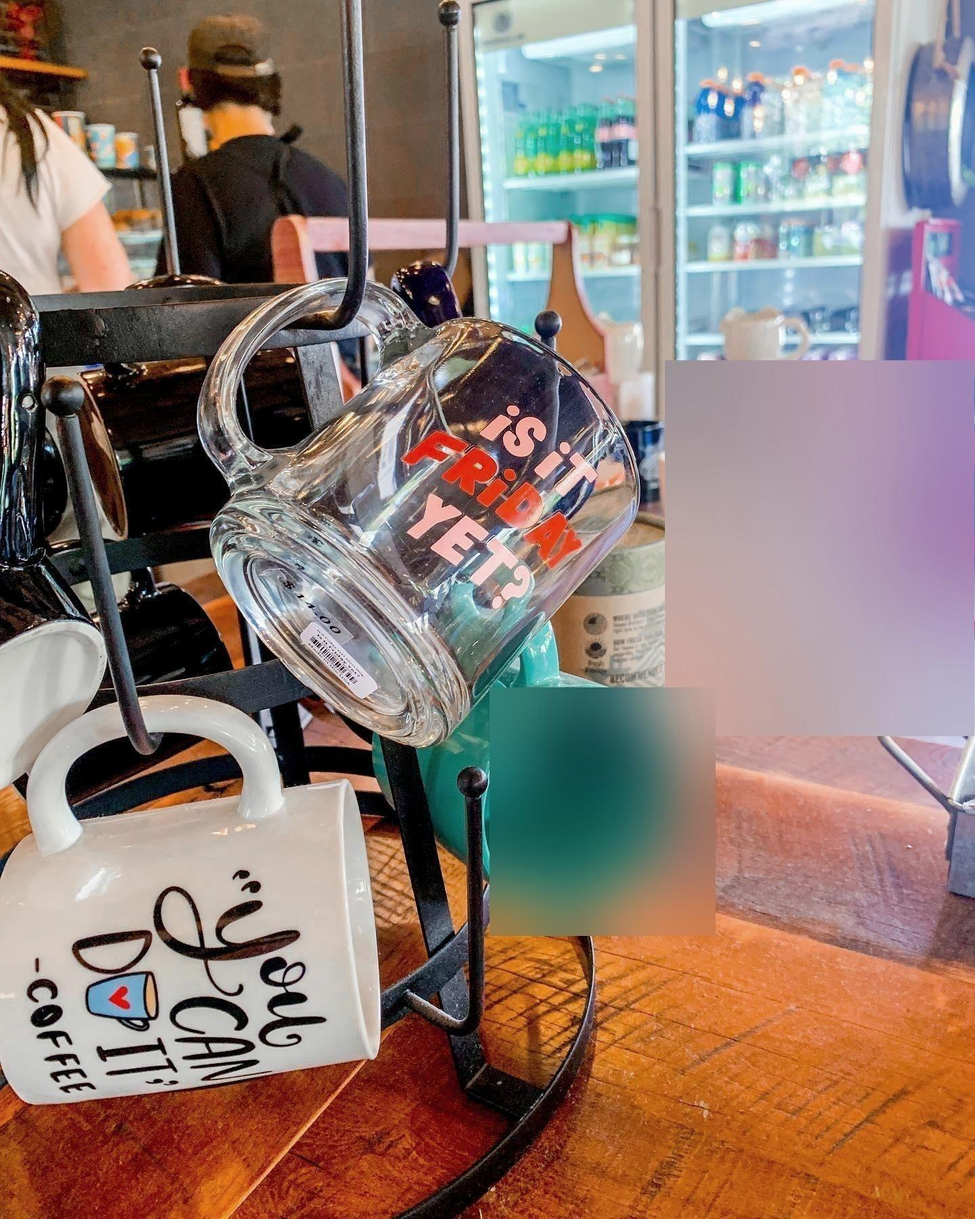cup-handle: (0, 698, 393, 1113)
glass-mug: (197, 265, 643, 758)
